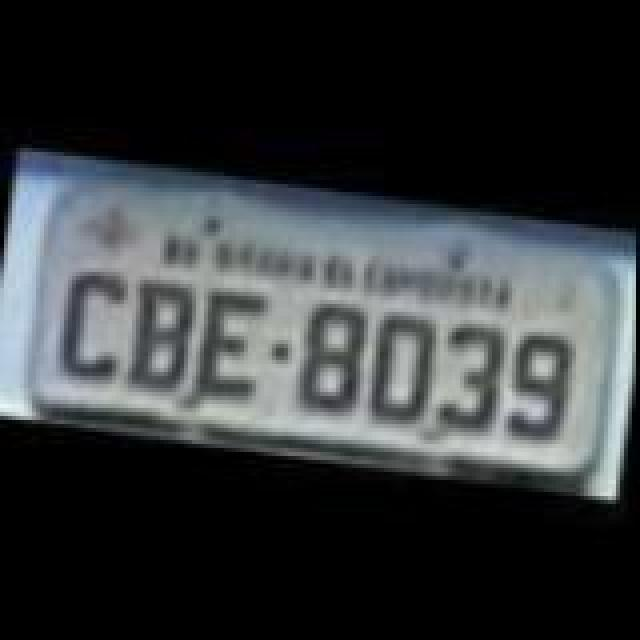3: (434, 306, 518, 430)
8: (296, 294, 376, 418)
9: (500, 318, 580, 446)
B: (120, 276, 208, 396)
C: (48, 264, 136, 388)
E: (186, 278, 270, 402)
O: (364, 308, 444, 432)
